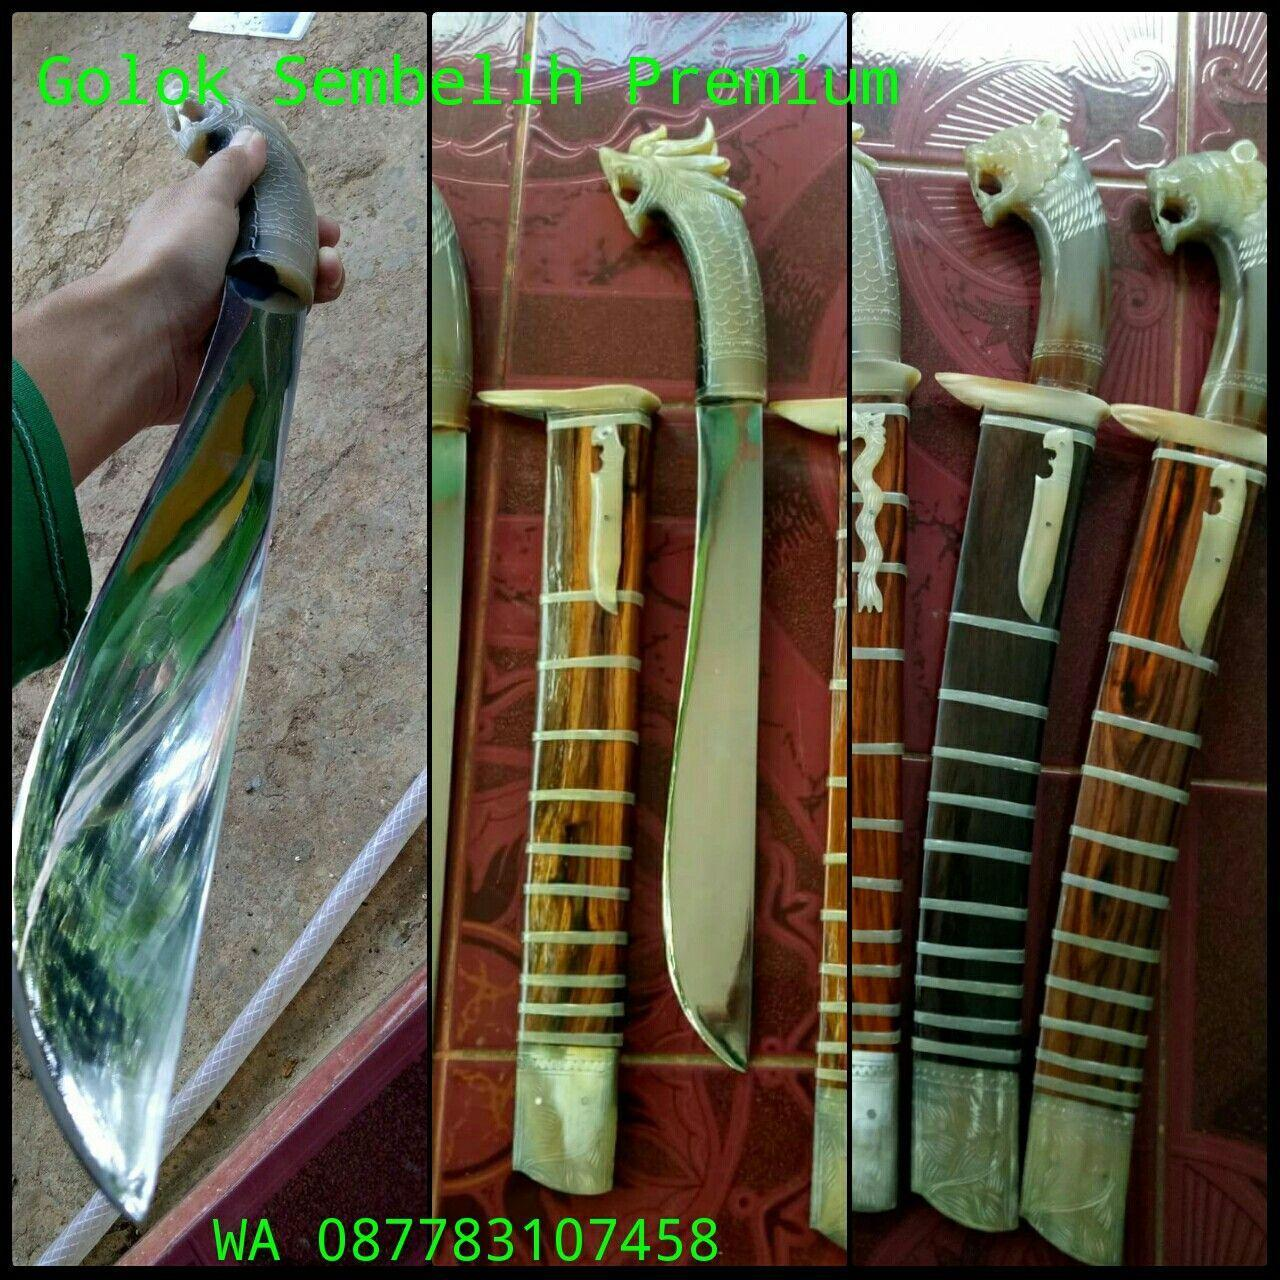espada: (23, 79, 320, 1242), (583, 124, 794, 1046)
